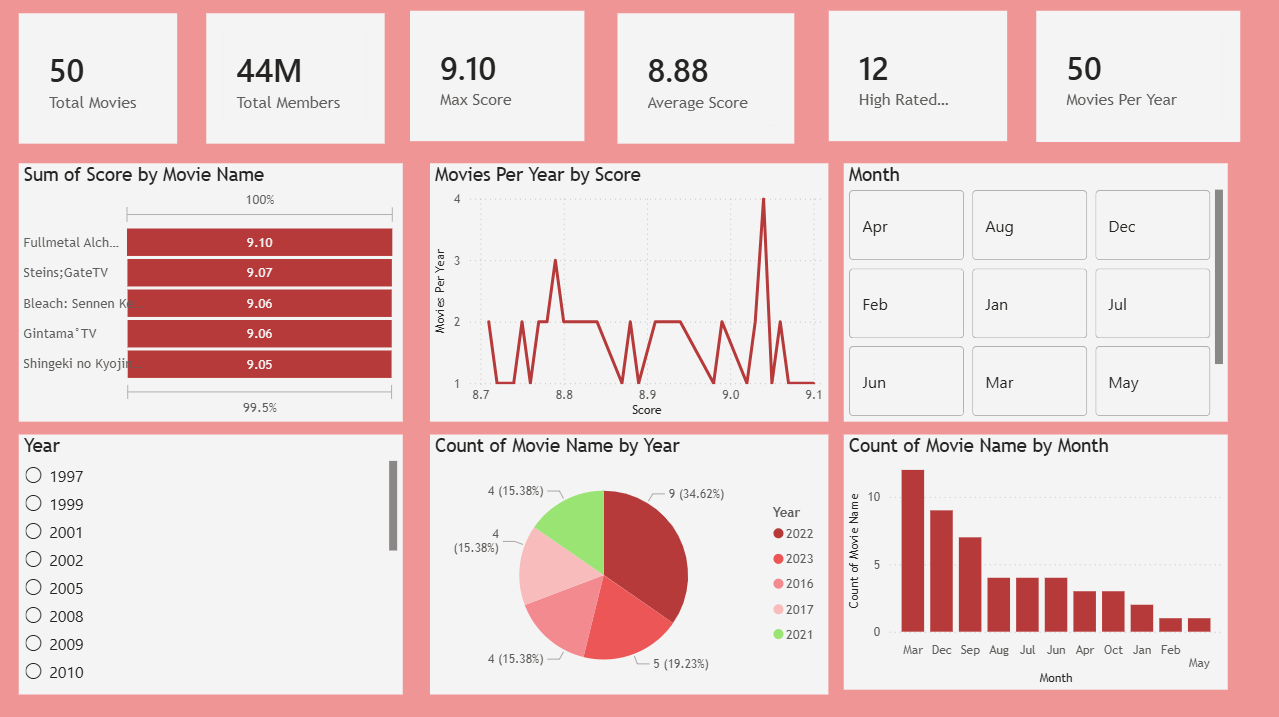

Layout of this report page (visuals, bound fields, positions):
{"tool":"powerbi","page":{"name":"Page 1","canvas":[1280,720],"ordinal":0},"visuals":[{"type":"cardVisual","fields":{"Data":["anime (2).Total Movies"]},"box":[18.6,15.7,158.6,130],"z":0},{"type":"cardVisual","fields":{"Data":["anime (2).Average Score"]},"box":[617.1,15.7,177.1,130],"z":1000},{"type":"cardVisual","fields":{"Data":["anime (2).Max Score"]},"box":[410,14.3,174.3,130],"z":2000},{"type":"cardVisual","fields":{"Data":["anime (2).Total Members"]},"box":[205.7,15.7,178.6,130],"z":3000},{"type":"cardVisual","fields":{"Data":["anime (2).High Rated Movies"]},"box":[828.6,14.3,178.6,130],"z":4000},{"type":"funnel","fields":{"Category":["anime (2).Movie Name"],"Y":["Sum(anime (2).Score)"]},"box":[18.8,166.2,383.8,258.8],"z":5000},{"type":"lineChart","fields":{"Category":["anime (2).Score"],"Y":["anime (2).Movies Per Year"]},"box":[430,166.2,398.8,258.8],"z":6000},{"type":"advancedSlicerVisual","fields":{"Values":["anime (2).Month"]},"box":[844.3,165.7,384.3,258.6],"z":7000},{"type":"pieChart","fields":{"Category":["anime (2).Year"],"Y":["CountNonNull(anime (2).Movie Name)"]},"box":[430,437.5,398.8,260],"z":8000},{"type":"columnChart","fields":{"Category":["anime (2).Month"],"Y":["CountNonNull(anime (2).Movie Name)"]},"box":[843.8,437.5,383.8,255],"z":9000},{"type":"cardVisual","fields":{"Data":["anime (2).Movies Per Year"]},"box":[1035.7,14.3,204.3,131.4],"z":9001},{"type":"listSlicer","fields":{"Values":["anime (2).Year"]},"box":[18.8,437.5,383.8,260],"z":9002}]}

Visuals, with their boxes in screenshot pixels (x1, y1, x2, y2), scaled from the page's 1280x720 canvas onto the 1279x717 screenshot:
cardVisual - anime (2).Total Movies: [x1=19, y1=16, x2=177, y2=145]
cardVisual - anime (2).Average Score: [x1=617, y1=16, x2=794, y2=145]
cardVisual - anime (2).Max Score: [x1=410, y1=14, x2=584, y2=144]
cardVisual - anime (2).Total Members: [x1=206, y1=16, x2=384, y2=145]
cardVisual - anime (2).High Rated Movies: [x1=828, y1=14, x2=1006, y2=144]
funnel - anime (2).Movie Name x Sum(anime (2).Score): [x1=19, y1=166, x2=402, y2=423]
lineChart - anime (2).Score x anime (2).Movies Per Year: [x1=430, y1=166, x2=828, y2=423]
advancedSlicerVisual - anime (2).Month: [x1=844, y1=165, x2=1228, y2=423]
pieChart - anime (2).Year x CountNonNull(anime (2).Movie Name): [x1=430, y1=436, x2=828, y2=695]
columnChart - anime (2).Month x CountNonNull(anime (2).Movie Name): [x1=843, y1=436, x2=1227, y2=690]
cardVisual - anime (2).Movies Per Year: [x1=1035, y1=14, x2=1239, y2=145]
listSlicer - anime (2).Year: [x1=19, y1=436, x2=402, y2=695]
